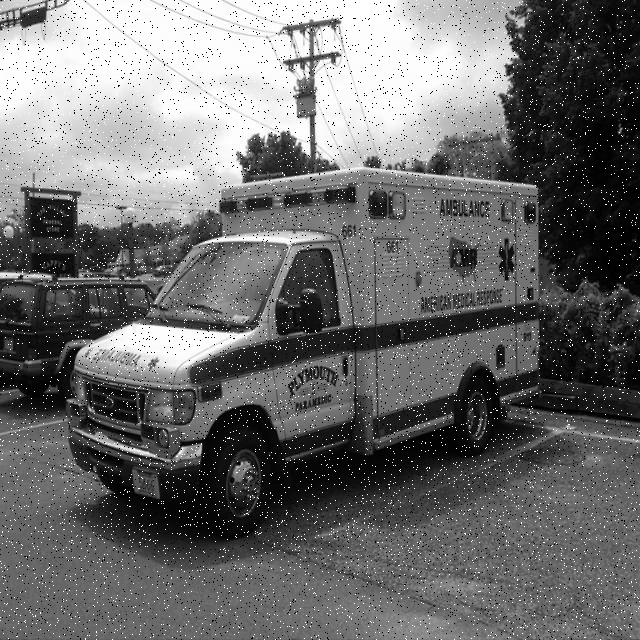Ambulance: (66, 167, 541, 541)
